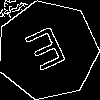E: (22, 25, 73, 81)
